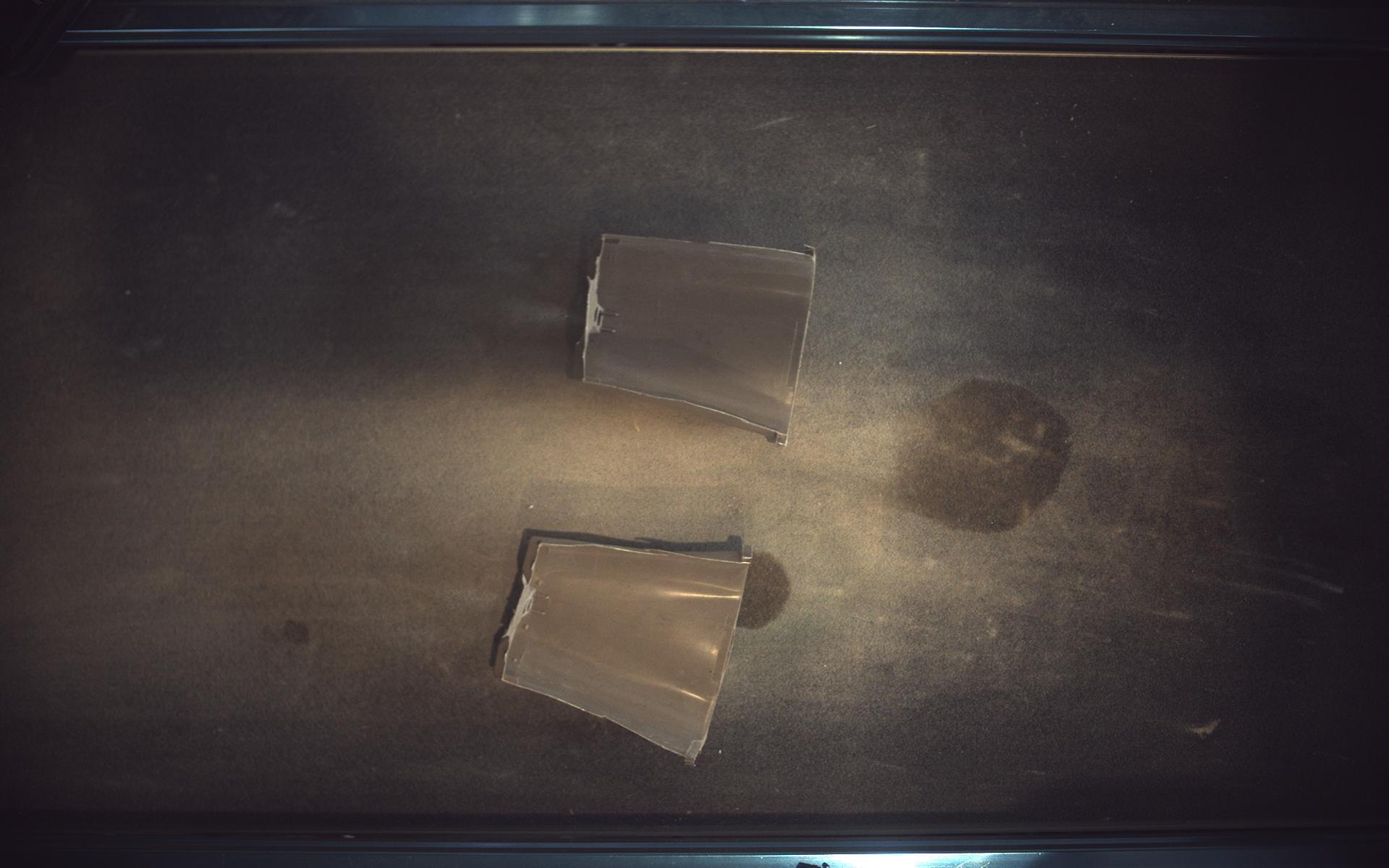general_w: (502, 537, 751, 763), (583, 234, 817, 445)
